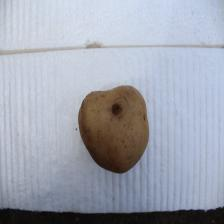Damaged potato: (75, 76, 153, 180)
